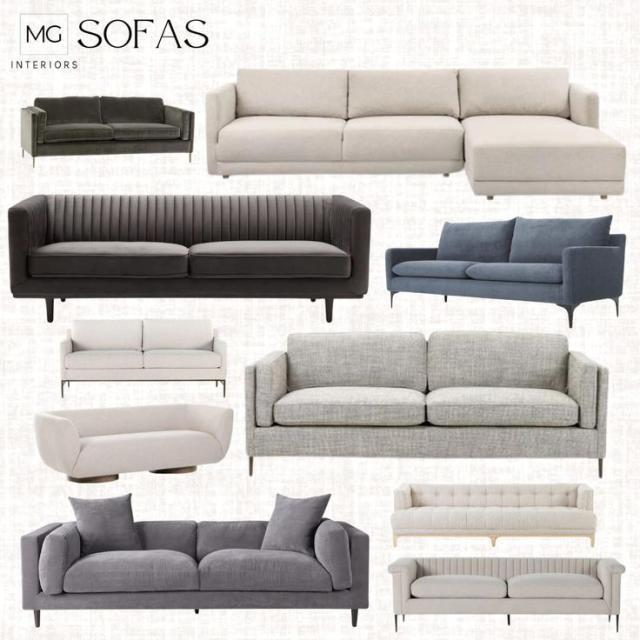obstacle: (204, 66, 626, 200), (244, 330, 609, 478), (6, 192, 372, 323), (20, 512, 370, 628), (384, 214, 626, 327), (388, 556, 622, 628), (58, 317, 227, 398), (19, 94, 194, 167), (389, 482, 595, 542)
